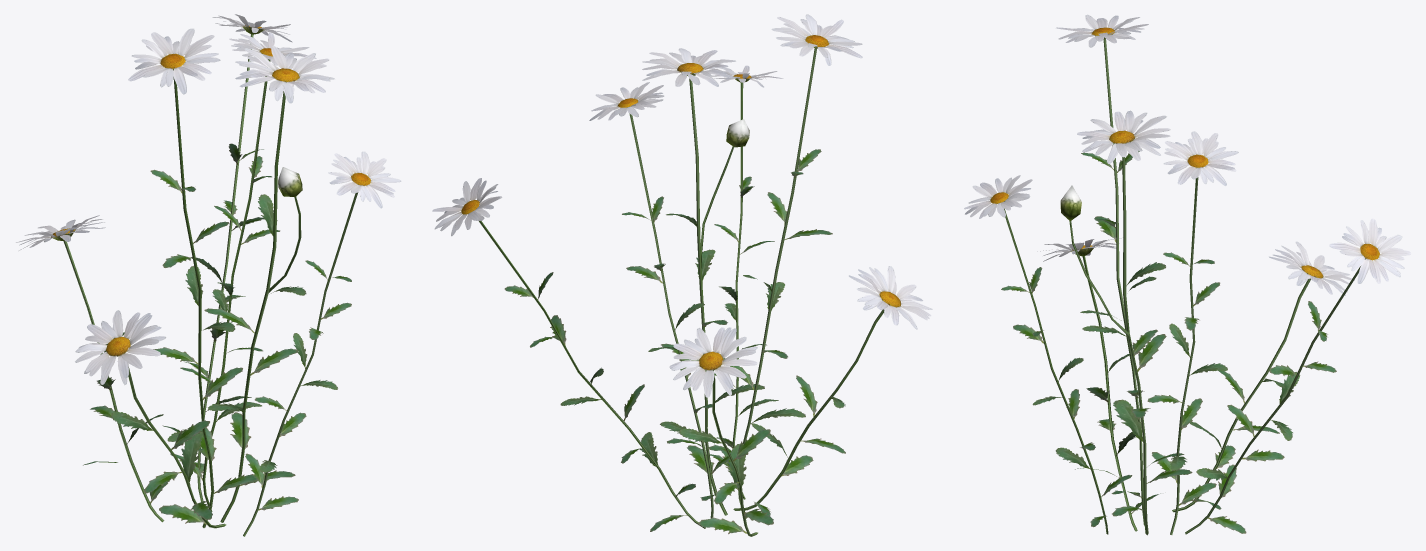
File: Daisy-group1bloomer.fbx
The picture shows the model from 3 angles, left to right: view 1: azimuth 30°, elevation 25°; view 2: azimuth 150°, elevation 25°; view 3: azimuth 270°, elevation 25°; orthographic projection. The views are drawn at different scales.
Parts seen in each view (by area): view 1: Daisy-group1bloomer; view 2: Daisy-group1bloomer; view 3: Daisy-group1bloomer.
Part boxes in pixels (x1,y1,x2,y2): Daisy-group1bloomer: [16, 14, 401, 536]; Daisy-group1bloomer: [432, 14, 932, 536]; Daisy-group1bloomer: [964, 14, 1411, 535].
Size of the model in its own units: 78.54 by 106 by 89.02.
